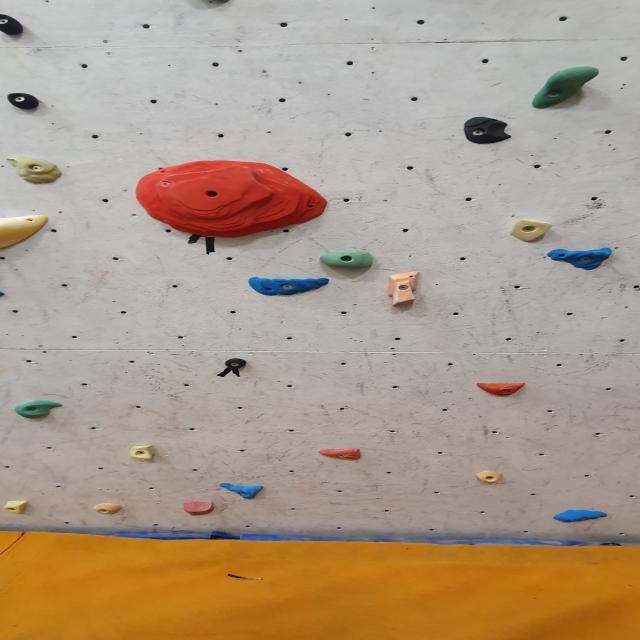Crimp: (133, 163, 335, 240), (3, 156, 66, 187), (246, 277, 334, 296), (545, 247, 616, 270), (509, 220, 553, 244), (472, 382, 530, 397), (552, 510, 610, 524), (218, 485, 264, 500), (313, 448, 364, 461), (85, 501, 128, 516), (128, 445, 158, 463), (1, 498, 30, 514), (476, 472, 505, 487), (0, 289, 7, 298)
Jug: (526, 65, 603, 110), (318, 250, 376, 271), (10, 401, 64, 422), (182, 0, 244, 6)
Pinch: (386, 269, 428, 310), (3, 92, 43, 111), (0, 13, 29, 36), (224, 358, 250, 369)
Sloper: (0, 215, 51, 259), (458, 118, 513, 147), (182, 500, 218, 516)
